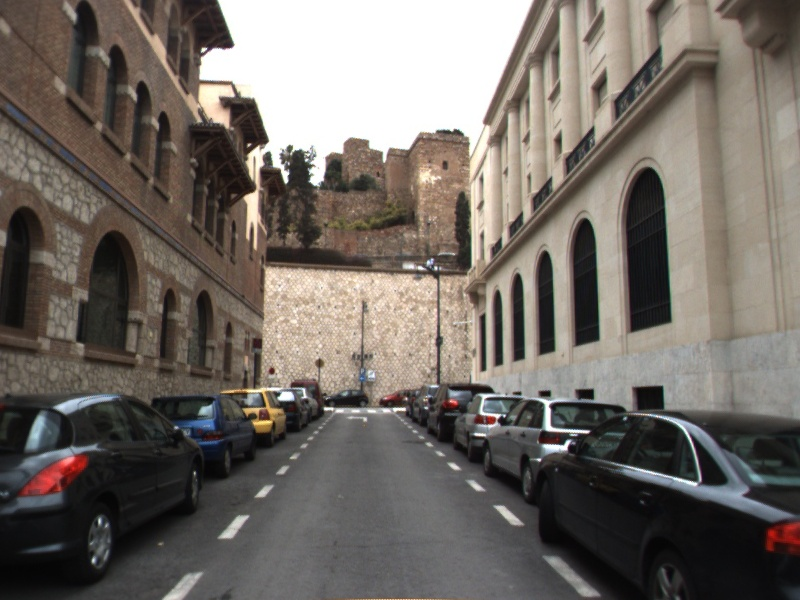LEFT: (344, 414, 369, 424)
